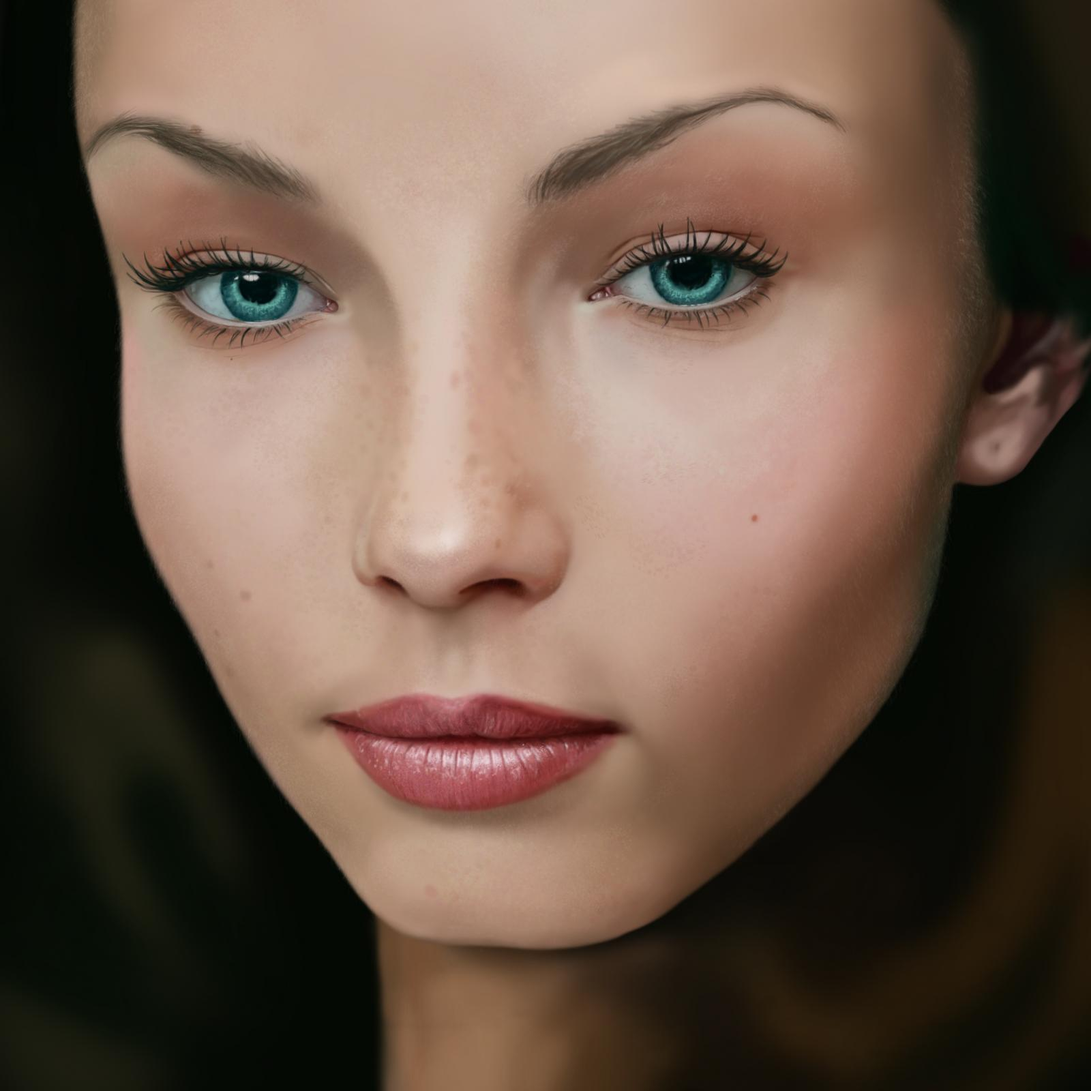Eyes: (115, 235, 357, 361), (574, 211, 794, 344)
